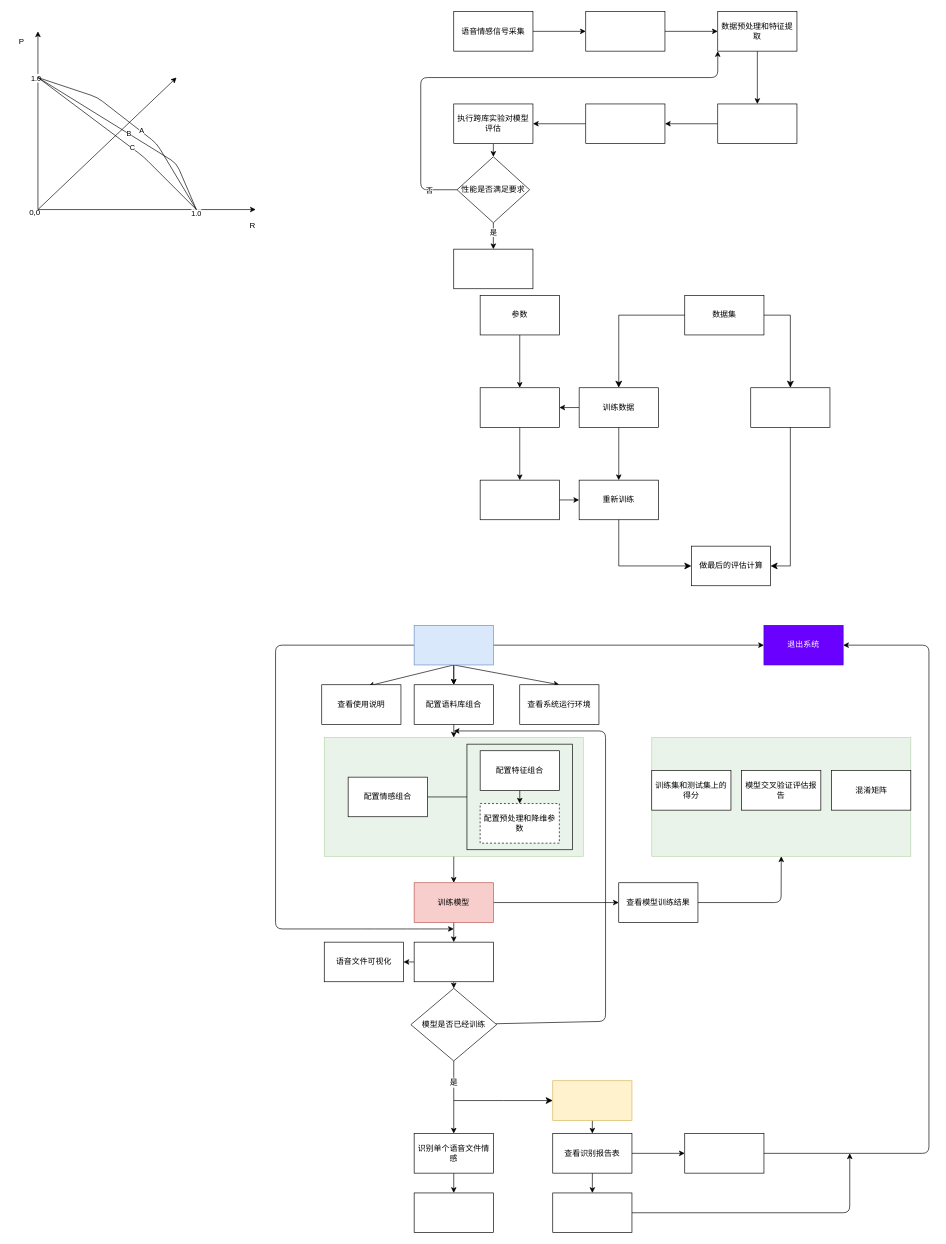
This 946x1244 diagram has some shape labels left out. The box of each missing label's shape, as (x1, y1, x2, y2) in pixels:
交叉验证: (479, 387, 559, 427)
保存识别报告表: (552, 1192, 632, 1233)
分类加工为语音语料库: (585, 11, 665, 51)
启动系统: (413, 625, 493, 665)
应用分类模型完成情感分类任务: (453, 248, 533, 289)
批量识别: (552, 1080, 632, 1120)
最优超参数: (479, 479, 559, 520)
查看预测结果和置信度: (413, 1192, 493, 1233)
测试数据: (750, 387, 830, 427)
特征优选: (717, 103, 797, 144)
绘制识别结果统计图: (684, 1133, 764, 1173)
训练情感分类模型: (585, 103, 665, 144)
选择语音文件: (413, 941, 493, 982)
